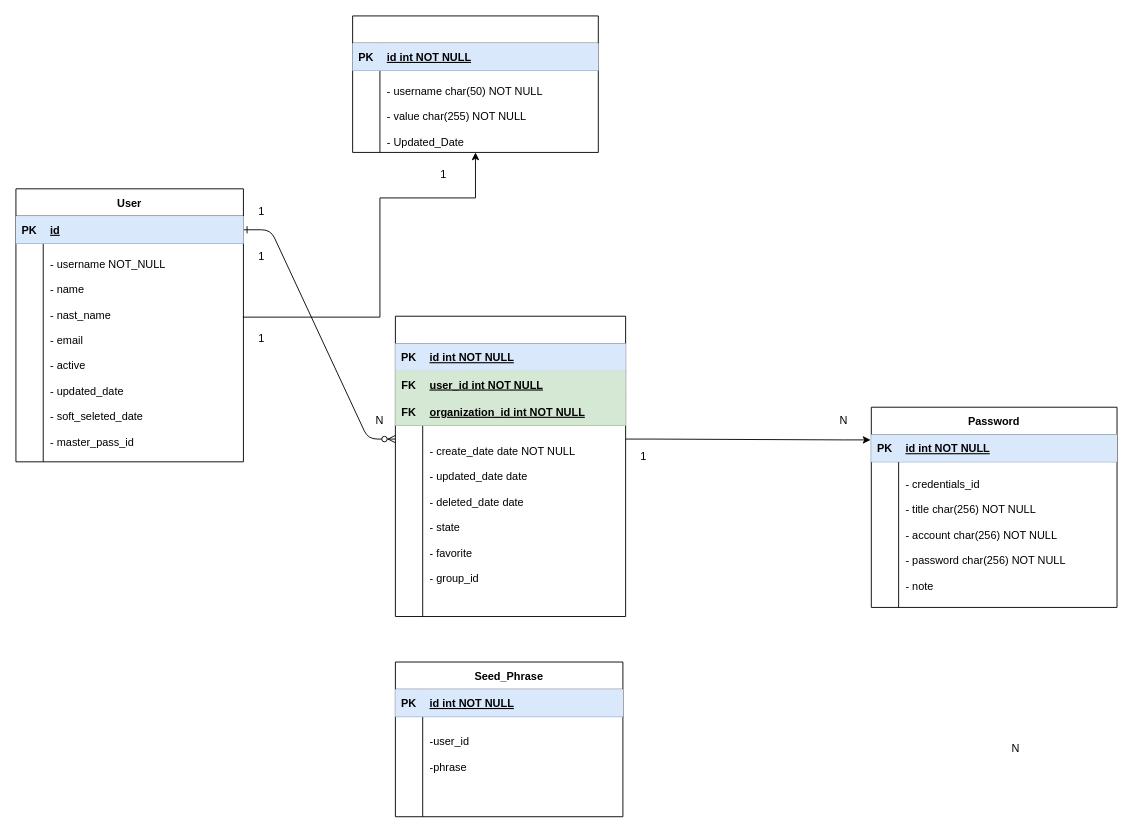
Image size: 1133x833. Some labels were removed from this diagram. The box of each missing label's shape, as (x1, y1, x2, y2) in pixels:
Credentials: (394, 315, 626, 617)
Master_Pass: (352, 15, 598, 152)
